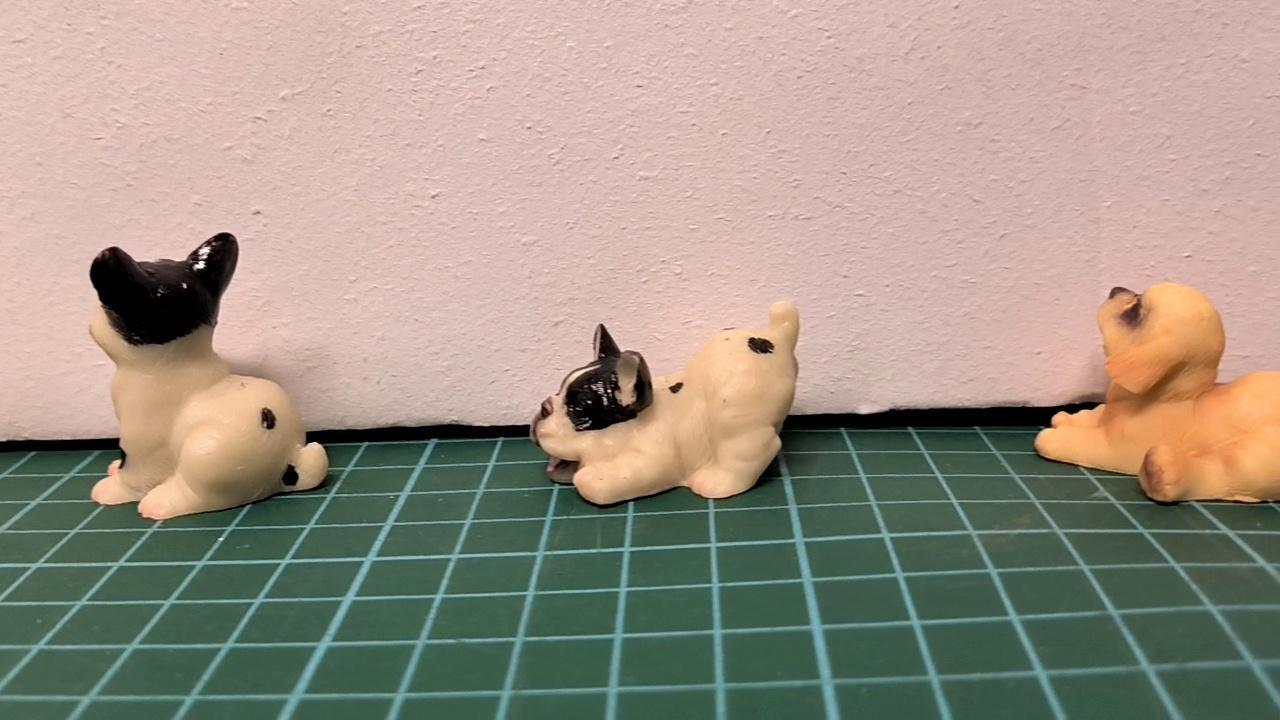pet: (79, 230, 334, 522), (526, 298, 801, 511), (1032, 276, 1280, 508)
